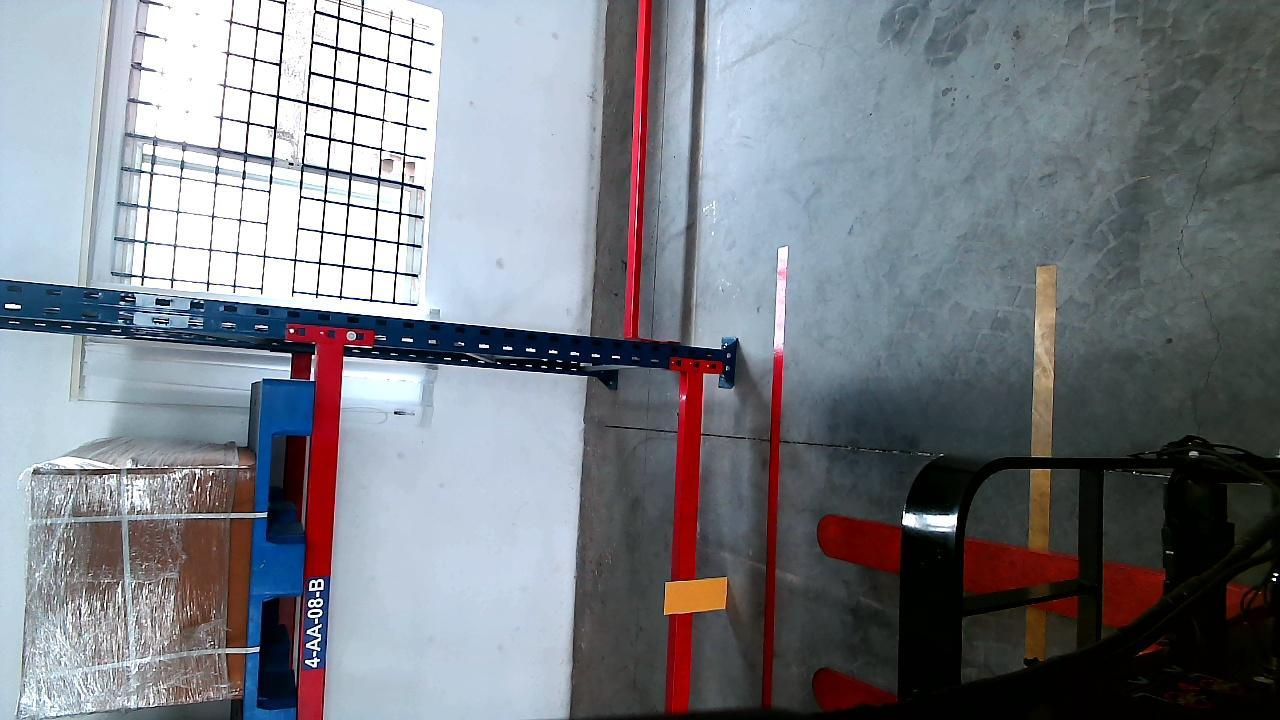red_line: (759, 246, 789, 702)
yellow_line: (1030, 262, 1056, 543)
